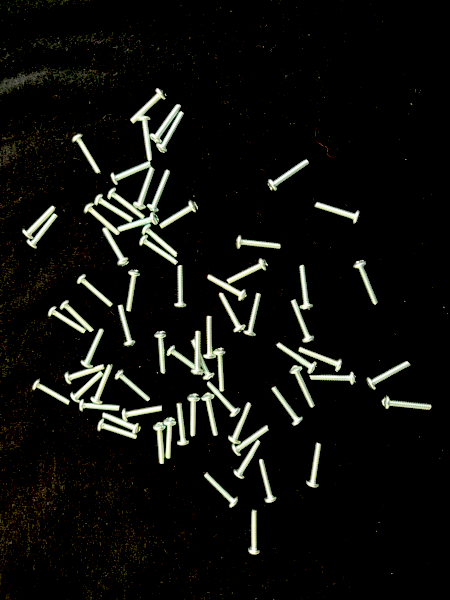longscrew: (267, 159, 311, 195), (130, 87, 169, 125), (204, 472, 241, 510), (141, 223, 180, 259), (367, 361, 412, 392), (149, 103, 183, 144), (352, 260, 381, 308), (276, 342, 318, 375), (205, 381, 242, 418), (76, 273, 116, 307), (106, 187, 147, 220), (272, 386, 305, 427), (59, 299, 96, 335), (159, 200, 200, 232), (156, 111, 186, 154), (82, 203, 121, 236), (27, 212, 60, 251), (232, 425, 271, 458), (226, 258, 270, 287), (72, 134, 103, 175), (298, 346, 345, 373), (93, 193, 135, 223), (22, 205, 58, 240), (290, 299, 318, 344), (315, 201, 363, 227), (289, 365, 317, 409), (139, 235, 180, 265), (115, 369, 152, 402), (218, 292, 247, 334), (101, 227, 131, 267), (47, 305, 87, 335), (207, 274, 249, 302), (81, 327, 109, 369), (70, 371, 106, 403), (147, 169, 173, 213), (234, 440, 262, 480), (111, 160, 153, 186), (190, 339, 216, 381), (228, 402, 254, 444), (133, 166, 157, 211), (31, 379, 71, 406), (117, 212, 161, 235), (235, 233, 283, 254), (243, 293, 265, 338), (259, 458, 280, 505), (90, 364, 114, 405), (117, 304, 139, 348), (97, 418, 139, 441), (102, 412, 142, 435), (136, 114, 155, 162), (64, 363, 105, 385), (201, 392, 221, 437), (298, 264, 317, 311), (305, 442, 324, 489), (381, 395, 433, 412), (166, 344, 198, 371), (124, 269, 143, 313), (247, 508, 264, 556), (202, 315, 220, 360), (309, 370, 358, 386), (122, 404, 164, 422), (173, 264, 189, 309), (154, 330, 170, 375), (152, 421, 168, 465), (177, 401, 192, 447), (78, 398, 121, 414), (187, 393, 202, 437), (215, 348, 230, 391), (163, 417, 178, 460), (191, 331, 205, 376)
